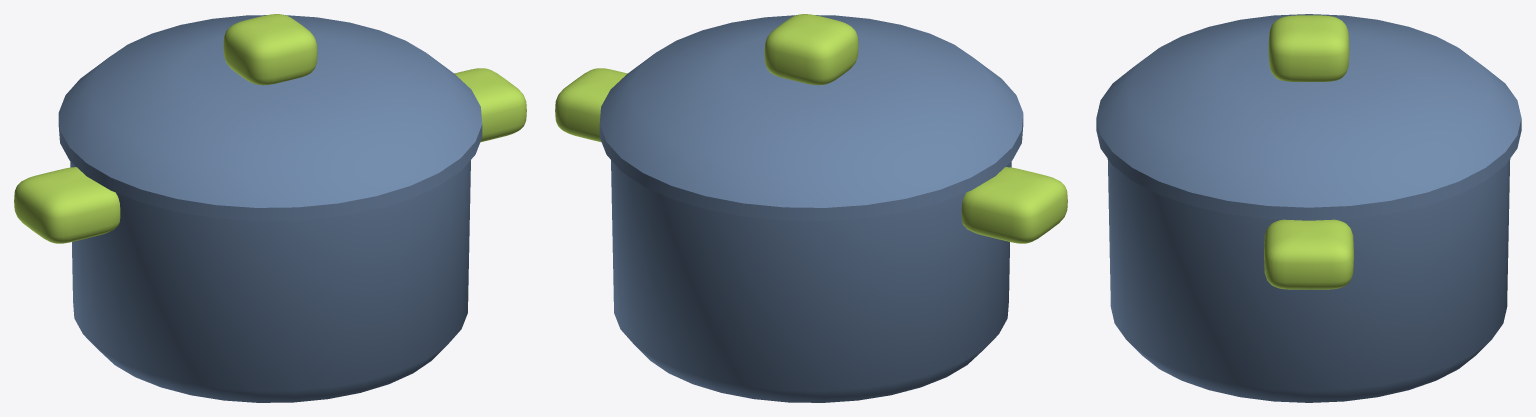
File: cacarola_azul.glb
The picture shows the model from 3 angles, left to right: view 1: azimuth 30°, elevation 25°; view 2: azimuth 150°, elevation 25°; view 3: azimuth 270°, elevation 25°; orthographic projection.
Visible parts, largest first — view 1: cacarola_azul, tampa; view 2: cacarola_azul, tampa; view 3: cacarola_azul, tampa.
Part boxes in pixels (x1,y1,x2,y2): cacarola_azul: (14, 68, 526, 402); tampa: (58, 14, 482, 220); cacarola_azul: (555, 68, 1067, 402); tampa: (599, 14, 1023, 220); cacarola_azul: (1107, 159, 1510, 402); tampa: (1096, 14, 1521, 220).
Bounding box in the file's own units: 0.31 × 0.185 × 0.236.
1 material, 1 textured.
